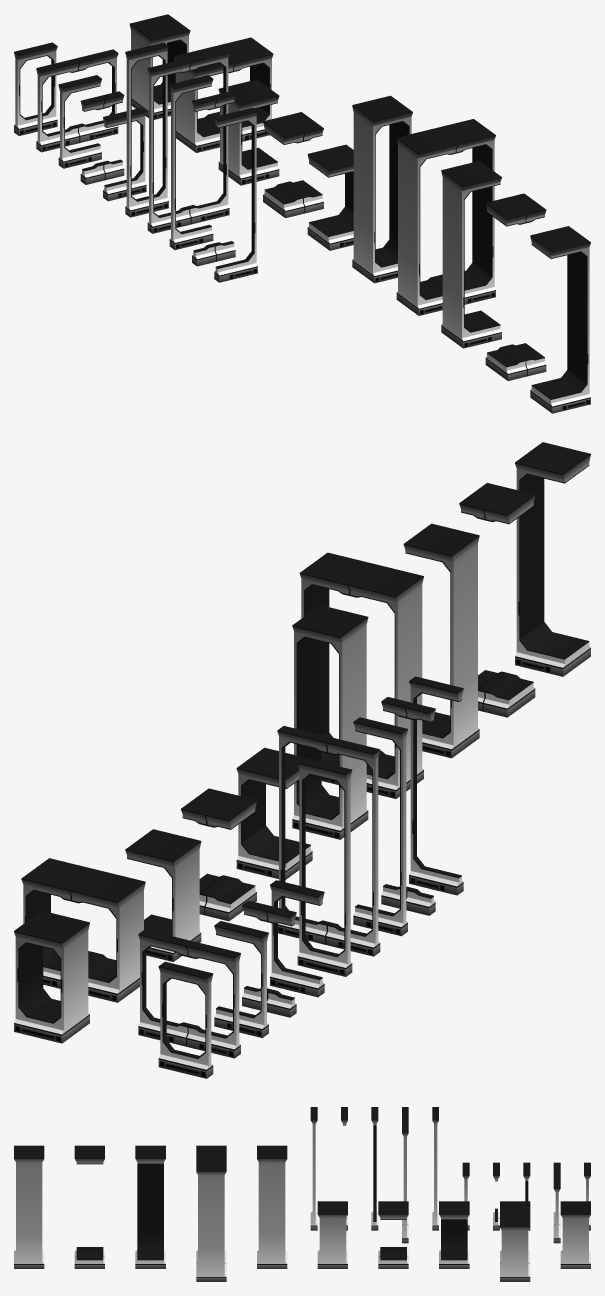
The model's file is VentanasInterior01.fbx.
3 renders of one model, top to bottom at view 1: azimuth 30°, elevation 25°; view 2: azimuth 150°, elevation 25°; view 3: azimuth 270°, elevation 25°, orthographic. The views are drawn at different scales.
Visible parts, largest first — view 1: VentianaInterior17, VentianaInterior16, VentianaInterior18, VentianaInterior20, VentianaInterior12, VentianaInterior07, VentianaInterior11, VentianaInterior13, VentianaInterior19, VentianaInterior14, VentianaInterior02, VentianaInterior15 (+8 smaller); view 2: VentianaInterior16, VentianaInterior17, VentianaInterior20, VentianaInterior12, VentianaInterior18, VentianaInterior11, VentianaInterior07, VentianaInterior15, VentianaInterior13, VentianaInterior02, VentianaInterior06, VentianaInterior19 (+8 smaller); view 3: VentianaInterior17, VentianaInterior16, VentianaInterior18, VentianaInterior20, VentianaInterior12, VentianaInterior15, VentianaInterior11, VentianaInterior13, VentianaInterior19, VentianaInterior14, VentianaInterior07, VentianaInterior08 (+5 smaller).
Boxes of the visible parts, left/top/right/bottom form: VentianaInterior17: left=396, top=119, right=495, bottom=315; VentianaInterior16: left=352, top=95, right=412, bottom=283; VentianaInterior18: left=441, top=161, right=501, bottom=348; VentianaInterior20: left=530, top=226, right=590, bottom=413; VentianaInterior12: left=174, top=37, right=273, bottom=152; VentianaInterior07: left=147, top=49, right=229, bottom=233; VentianaInterior11: left=129, top=14, right=190, bottom=119; VentianaInterior13: left=218, top=79, right=279, bottom=185; VentianaInterior19: left=485, top=193, right=546, bottom=380; VentianaInterior14: left=263, top=112, right=323, bottom=218; VentianaInterior02: left=36, top=49, right=118, bottom=152; VentianaInterior15: left=307, top=144, right=353, bottom=250; VentianaInterior16: left=292, top=605, right=368, bottom=839; VentianaInterior17: left=299, top=552, right=423, bottom=798; VentianaInterior20: left=515, top=442, right=590, bottom=676; VentianaInterior12: left=21, top=858, right=145, bottom=1002; VentianaInterior18: left=403, top=523, right=479, bottom=758; VentianaInterior11: left=14, top=910, right=89, bottom=1043; VentianaInterior07: left=277, top=726, right=380, bottom=956; VentianaInterior15: left=236, top=747, right=312, bottom=879; VentianaInterior13: left=125, top=829, right=201, bottom=961; VentianaInterior02: left=138, top=929, right=240, bottom=1058; VentianaInterior06: left=297, top=758, right=352, bottom=976; VentianaInterior19: left=459, top=483, right=535, bottom=717; VentianaInterior17: left=196, top=1145, right=226, bottom=1281; VentianaInterior16: left=257, top=1145, right=287, bottom=1268; VentianaInterior18: left=135, top=1145, right=165, bottom=1268; VentianaInterior20: left=14, top=1145, right=44, bottom=1268; VentianaInterior12: left=500, top=1201, right=530, bottom=1281; VentianaInterior15: left=317, top=1201, right=347, bottom=1268; VentianaInterior11: left=560, top=1201, right=590, bottom=1268; VentianaInterior13: left=439, top=1201, right=469, bottom=1268; VentianaInterior19: left=74, top=1145, right=104, bottom=1268; VentianaInterior14: left=378, top=1201, right=408, bottom=1268; VentianaInterior07: left=402, top=1107, right=408, bottom=1243; VentianaInterior08: left=371, top=1107, right=378, bottom=1230.
Bounding box in the file's own units: 98.43 × 79.11 × 374.
Materials: 2 (1 with a texture image).
